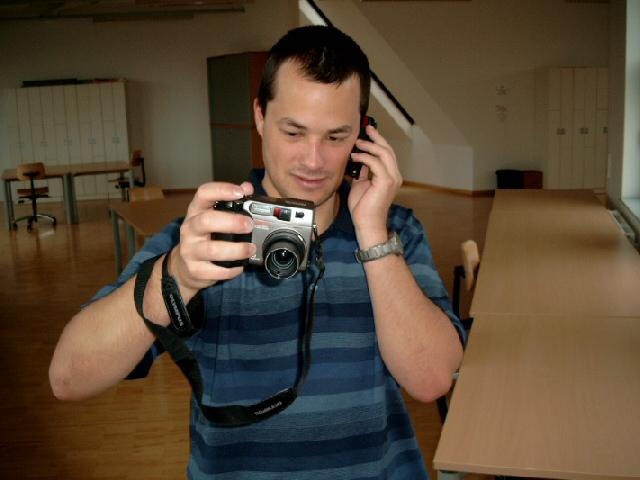Person: (47, 32, 470, 480)
